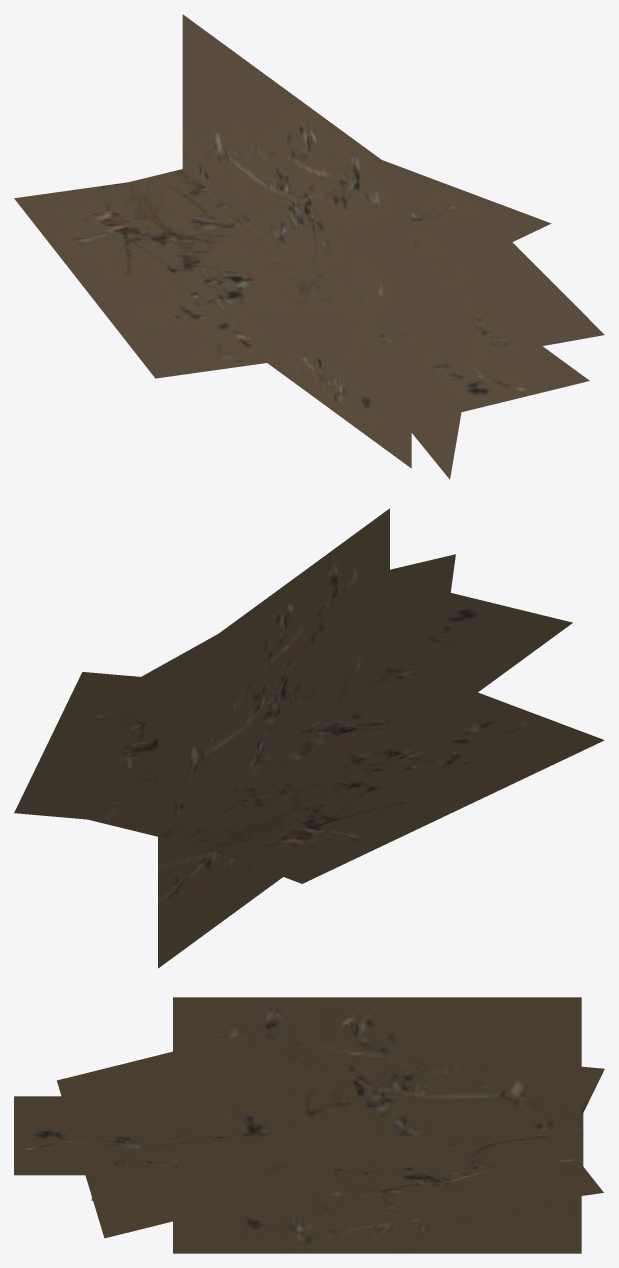
File: brush_desertshrubgraymid.glb
3 renders of one model, top to bottom at view 1: azimuth 30°, elevation 25°; view 2: azimuth 150°, elevation 25°; view 3: azimuth 270°, elevation 25°, orthographic. The views are drawn at different scales.
Size of the model in its own units: 26.97 by 16.22 by 33.92.
1 material, 1 textured.
